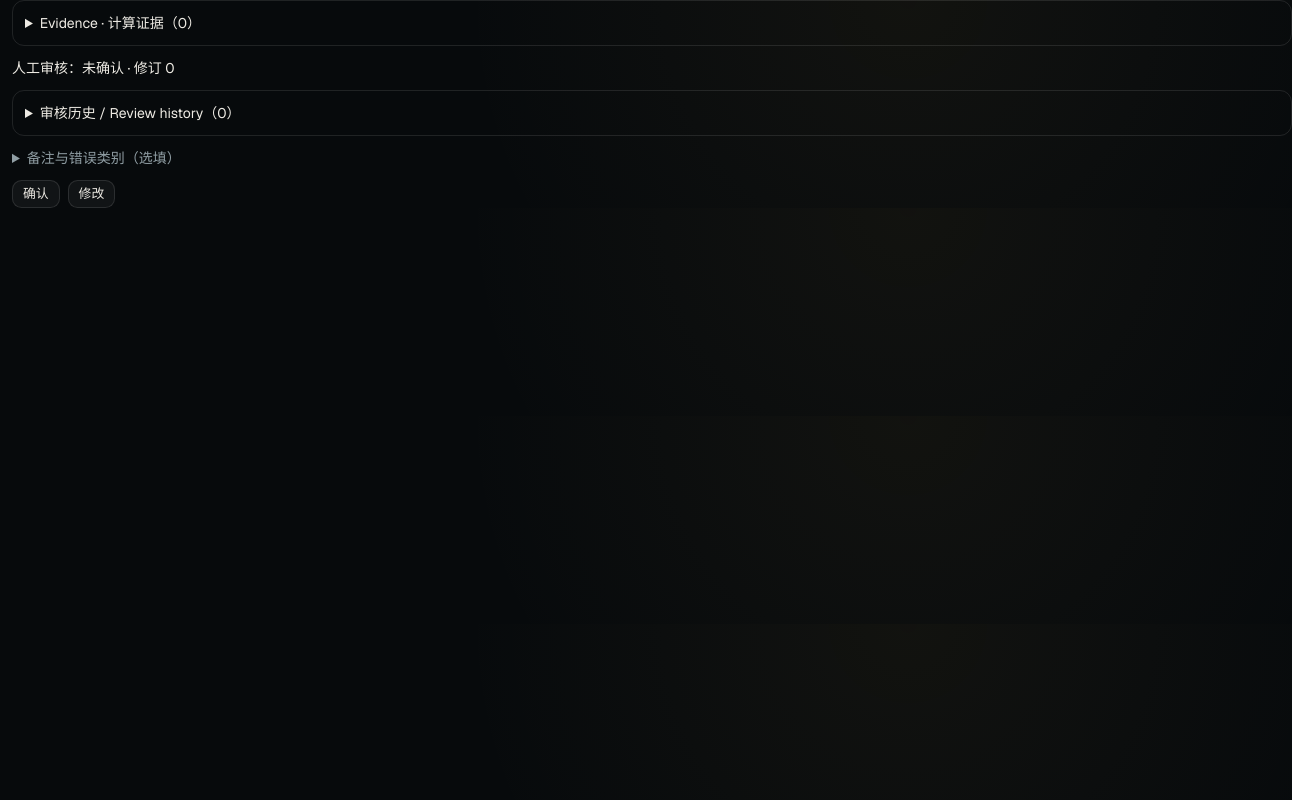
does not claim success on failed save and shows invalid refs explicitly
Click the button "确认": (36, 194) [12,180,60,208]
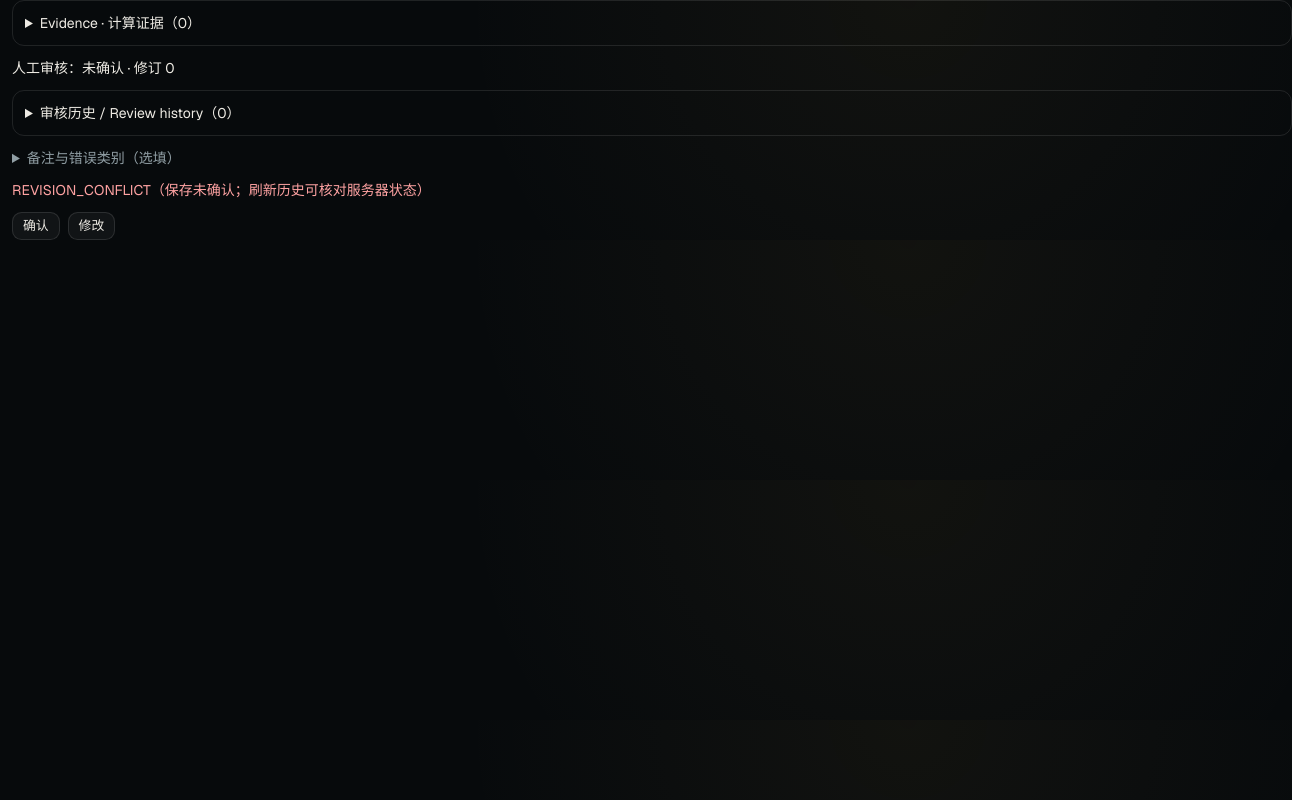
Now the message shows "REVISION_CONFLICT", box [12,181,151,199]
